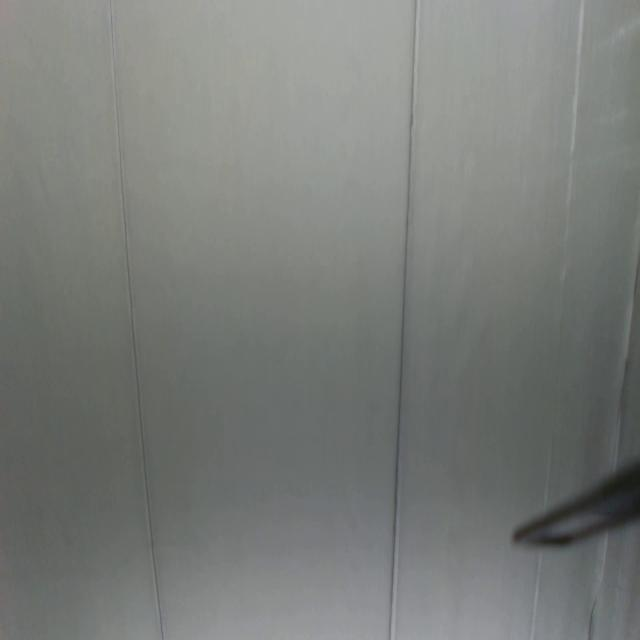crease: (524, 0, 588, 639), (107, 1, 164, 640), (385, 0, 422, 640), (587, 241, 640, 638)
